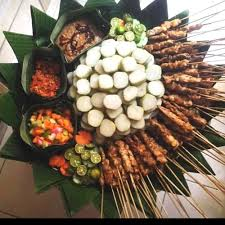sate: (12, 10, 225, 196)
